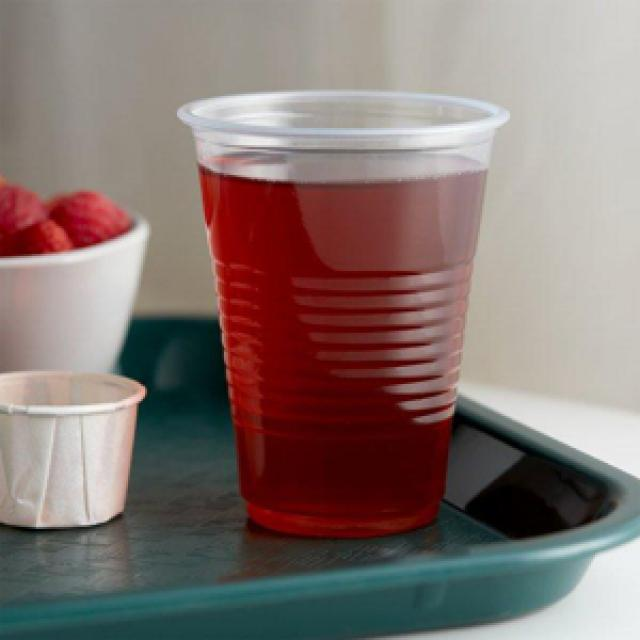plastic cup: (173, 85, 514, 542)
